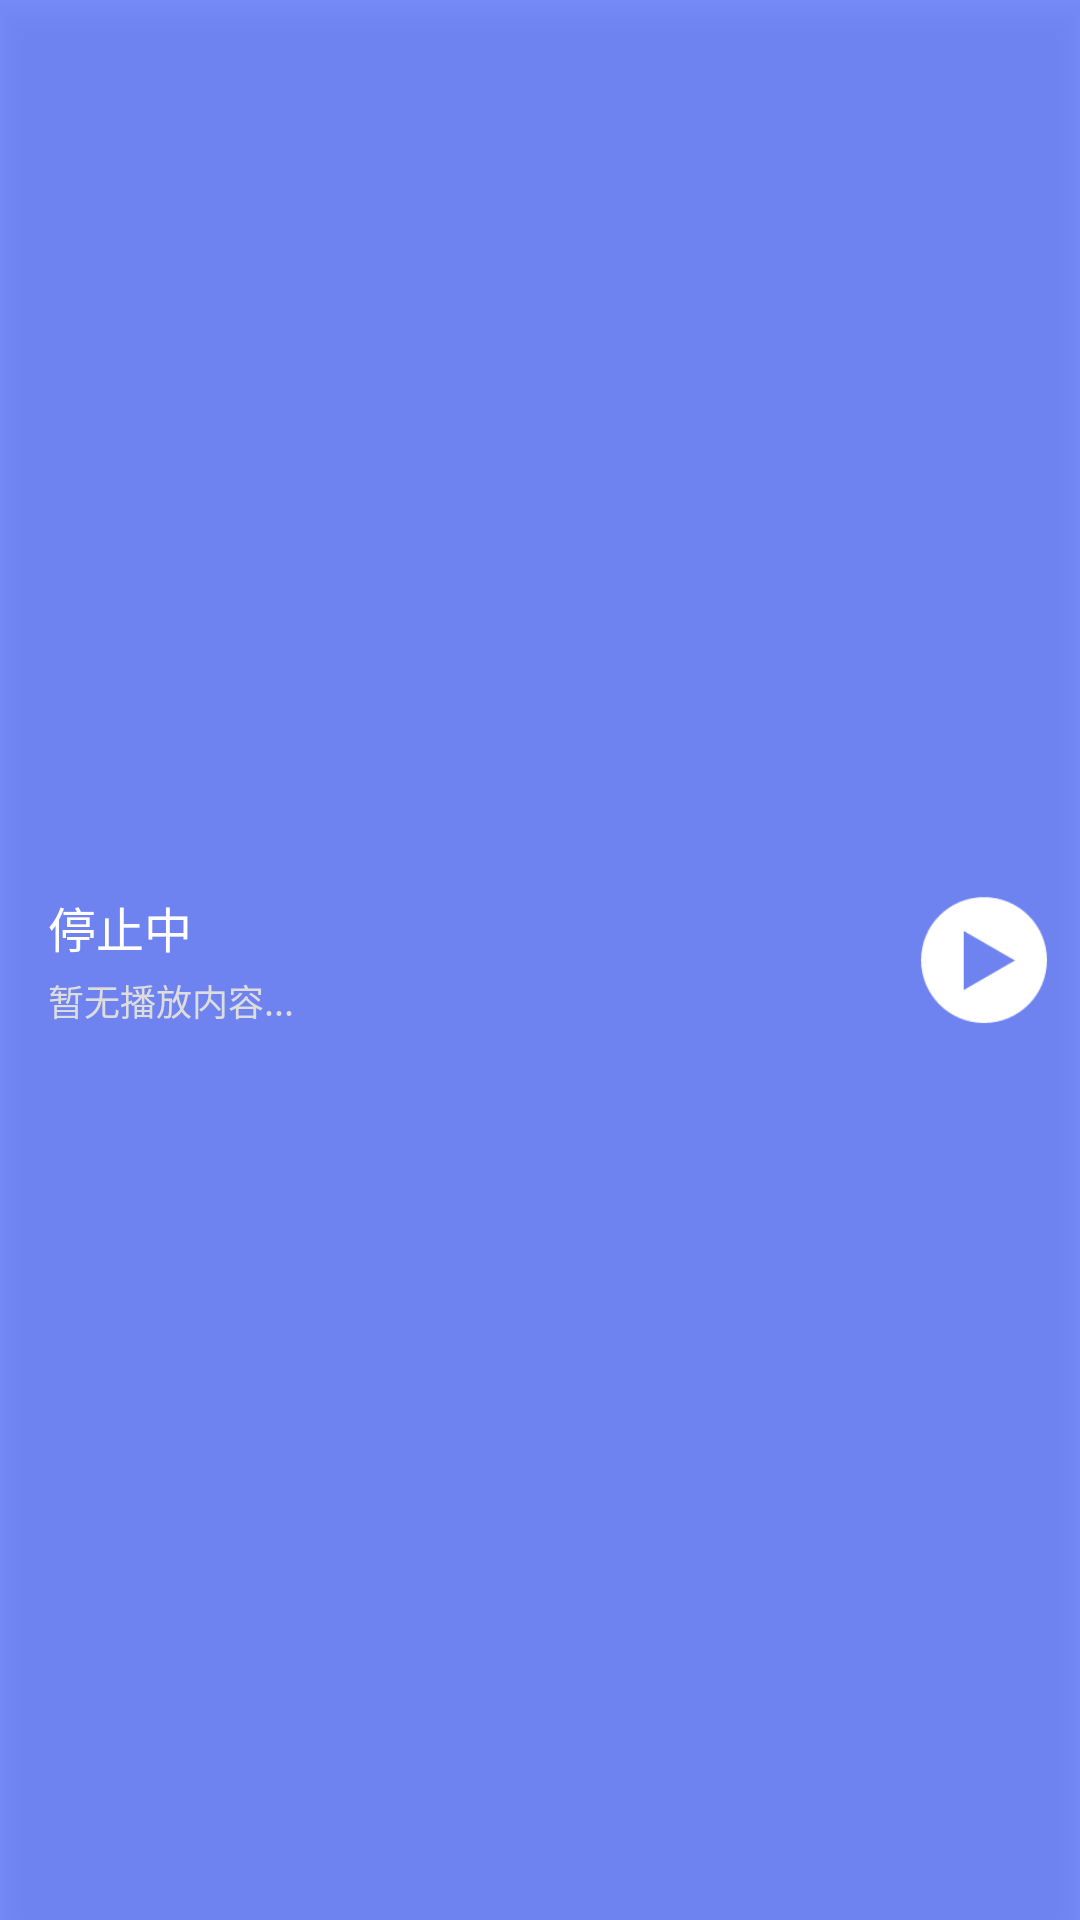

Screen size 1080×1920. Icon name, then its center in pixels as (x,y):
play: (984,960)
